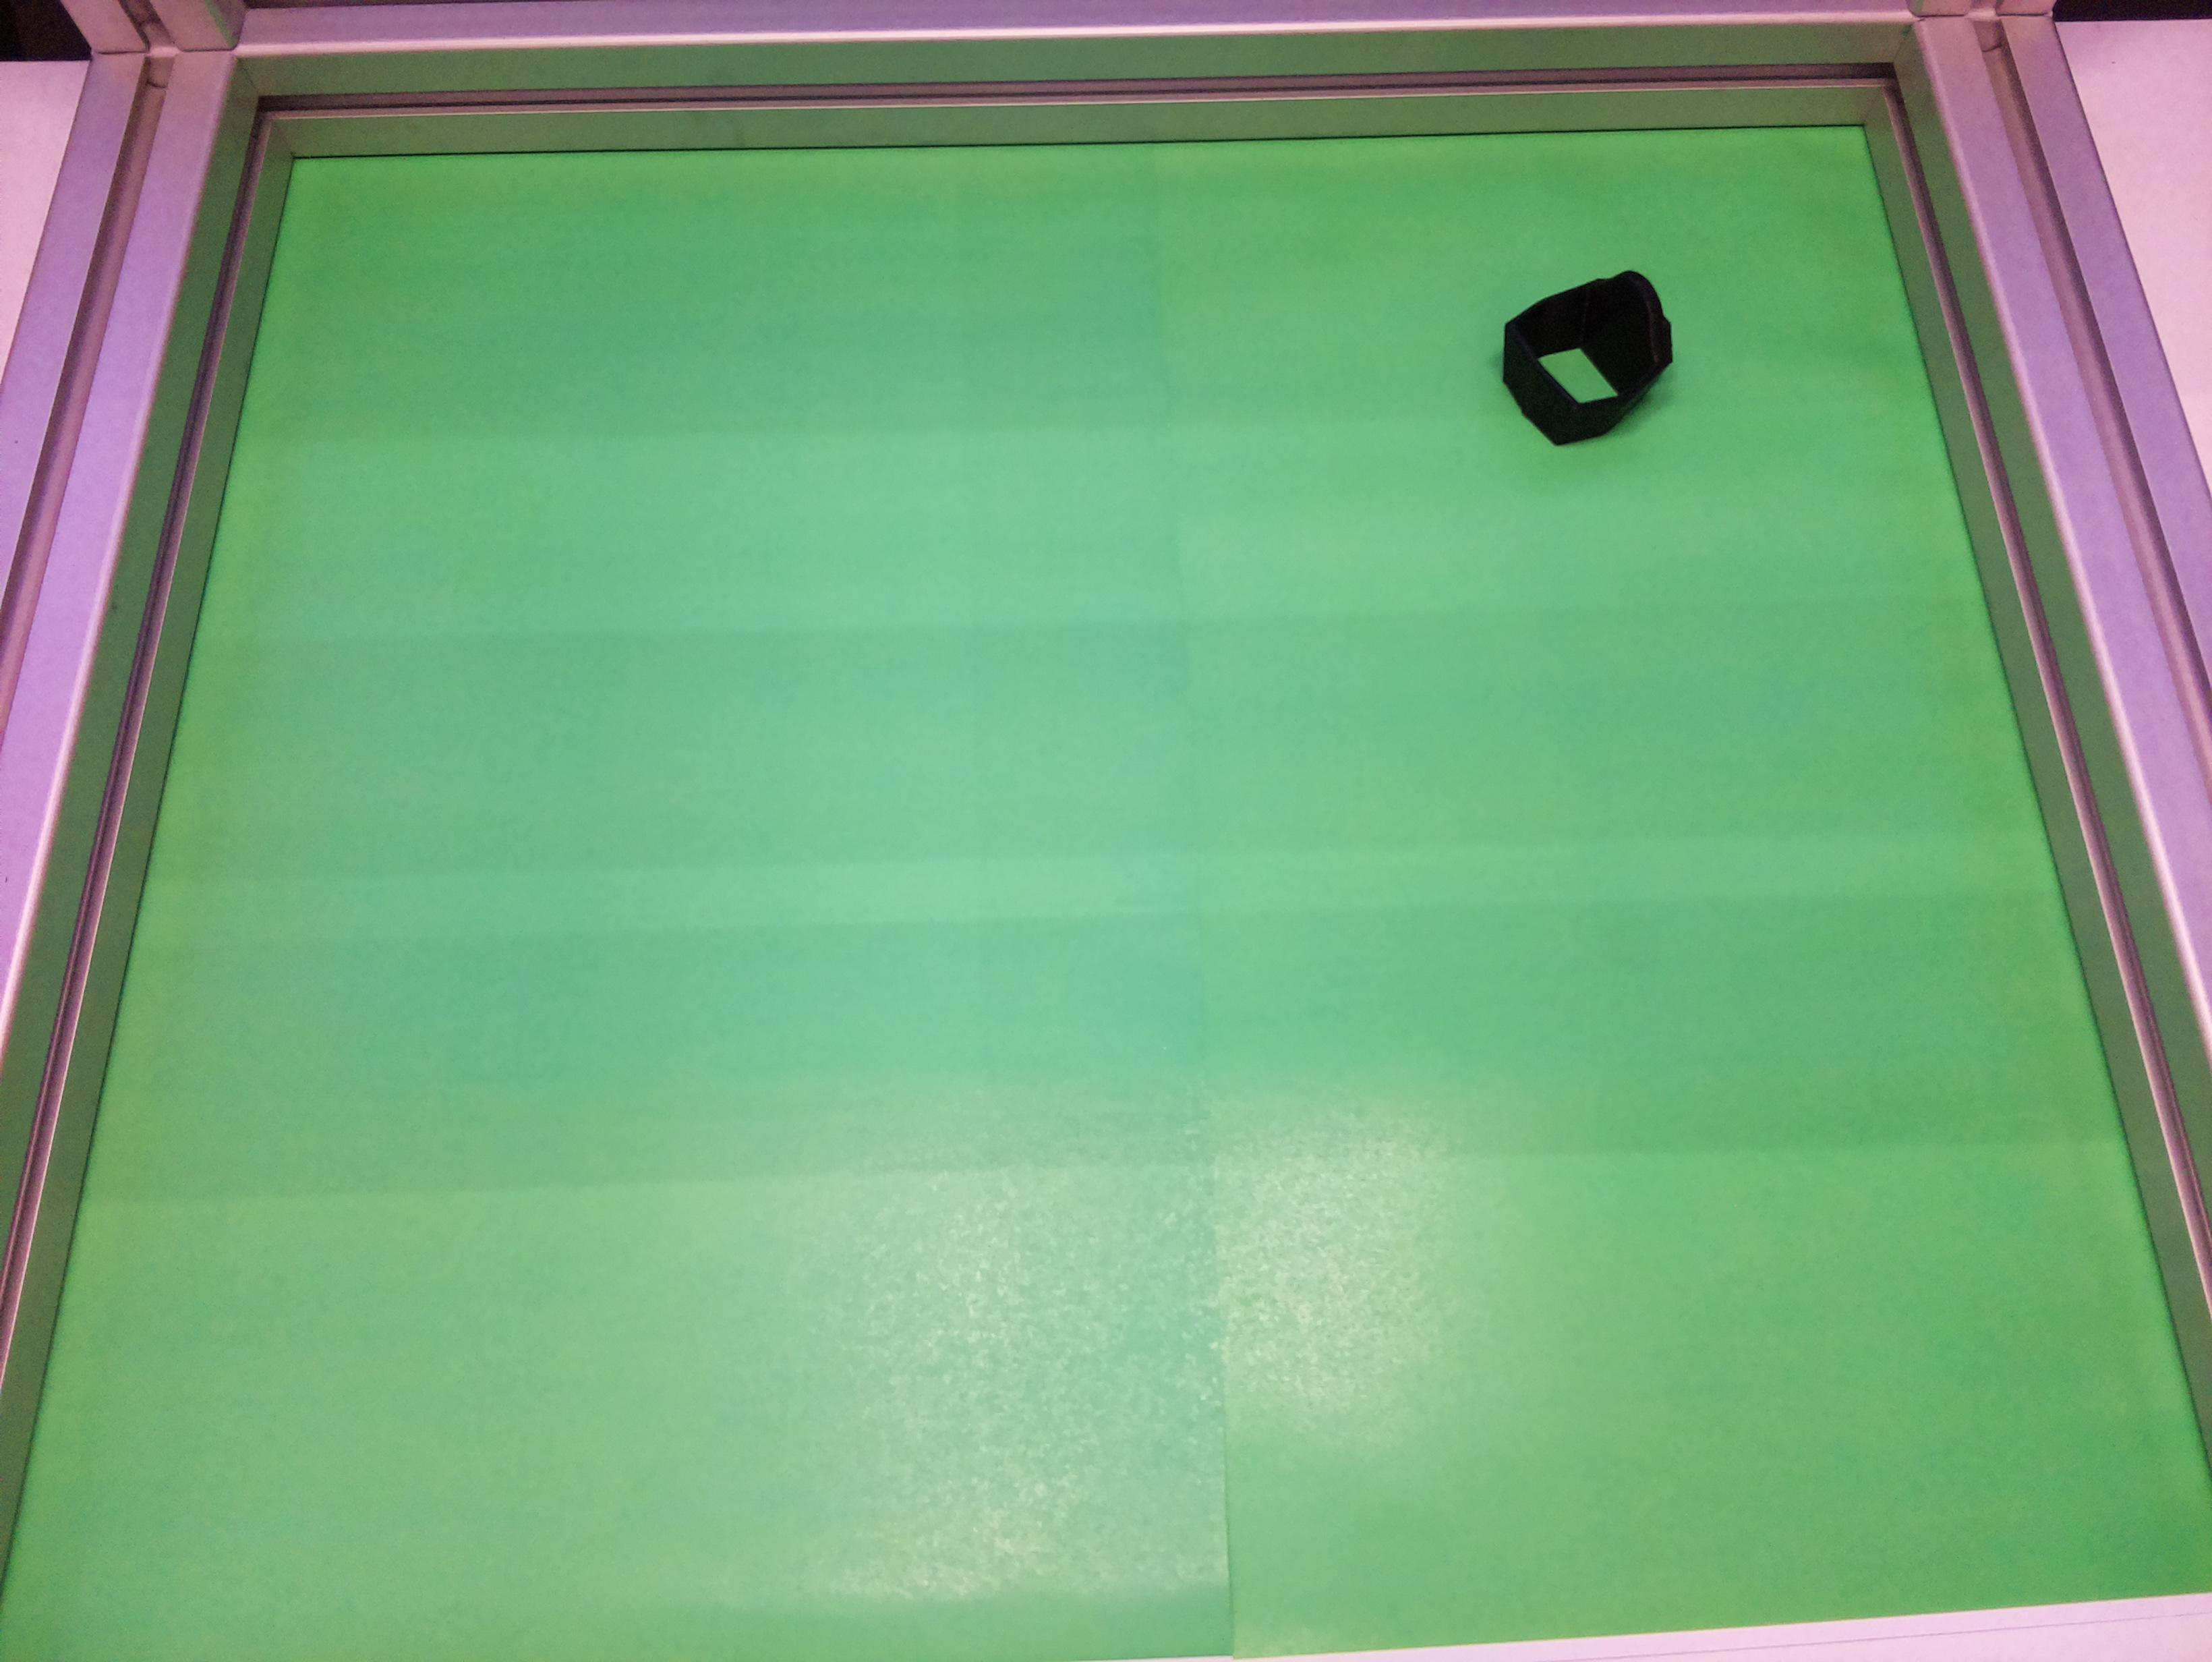scissor_holder: (1480, 255, 1700, 463)
